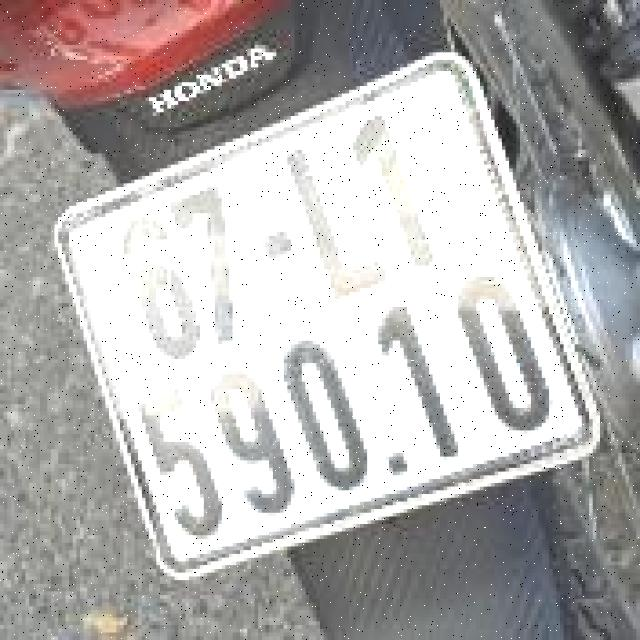0: (435, 258, 573, 451), (264, 326, 386, 503)
1: (332, 94, 464, 286), (355, 288, 480, 477)
5: (121, 374, 237, 556)
6: (104, 206, 211, 374)
7: (162, 176, 268, 359)
9: (199, 348, 313, 530)
L: (270, 122, 406, 320)
